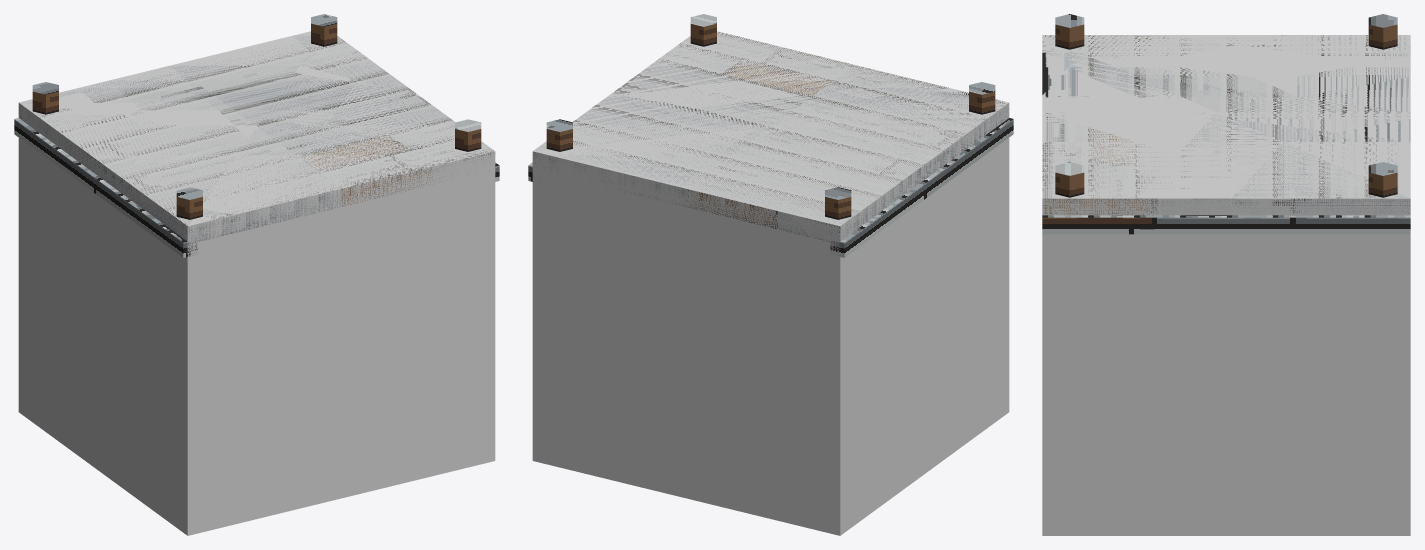
File: JP_Prop_Pier_2m_A.glb
3 views of the same model, side by side, from view 1: azimuth 30°, elevation 25°; view 2: azimuth 150°, elevation 25°; view 3: azimuth 270°, elevation 25° (orthographic). The views are drawn at different scales.
Parts seen in each view (by area): view 1: COL_JP_Prop_Pier_2m_A, JP_Prop_Pier_2m_A; view 2: COL_JP_Prop_Pier_2m_A, JP_Prop_Pier_2m_A; view 3: COL_JP_Prop_Pier_2m_A, JP_Prop_Pier_2m_A.
Part boxes in pixels (<box>): COL_JP_Prop_Pier_2m_A: <box>18,31,495,535</box>; JP_Prop_Pier_2m_A: <box>14,14,499,257</box>; COL_JP_Prop_Pier_2m_A: <box>532,31,1009,535</box>; JP_Prop_Pier_2m_A: <box>528,14,1013,257</box>; COL_JP_Prop_Pier_2m_A: <box>1042,35,1410,535</box>; JP_Prop_Pier_2m_A: <box>1042,14,1410,234</box>.
Size of the model in its own units: 2.16 by 2.15 by 2.
2 materials, 2 textured.
